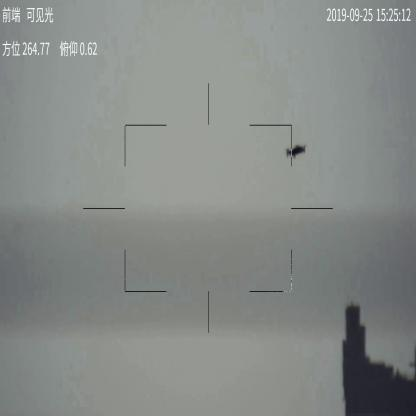uav: (285, 142, 307, 160)
